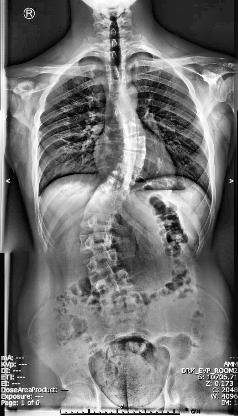Vertebrae: (95, 270, 134, 296), (99, 298, 143, 320), (86, 250, 121, 275), (86, 193, 123, 215), (77, 231, 115, 252), (99, 178, 129, 200), (110, 164, 140, 184), (82, 211, 114, 229), (122, 149, 146, 169), (124, 136, 148, 155), (110, 92, 134, 110), (106, 66, 130, 82), (123, 123, 147, 137), (118, 110, 142, 124), (108, 78, 130, 92), (106, 52, 128, 66)
